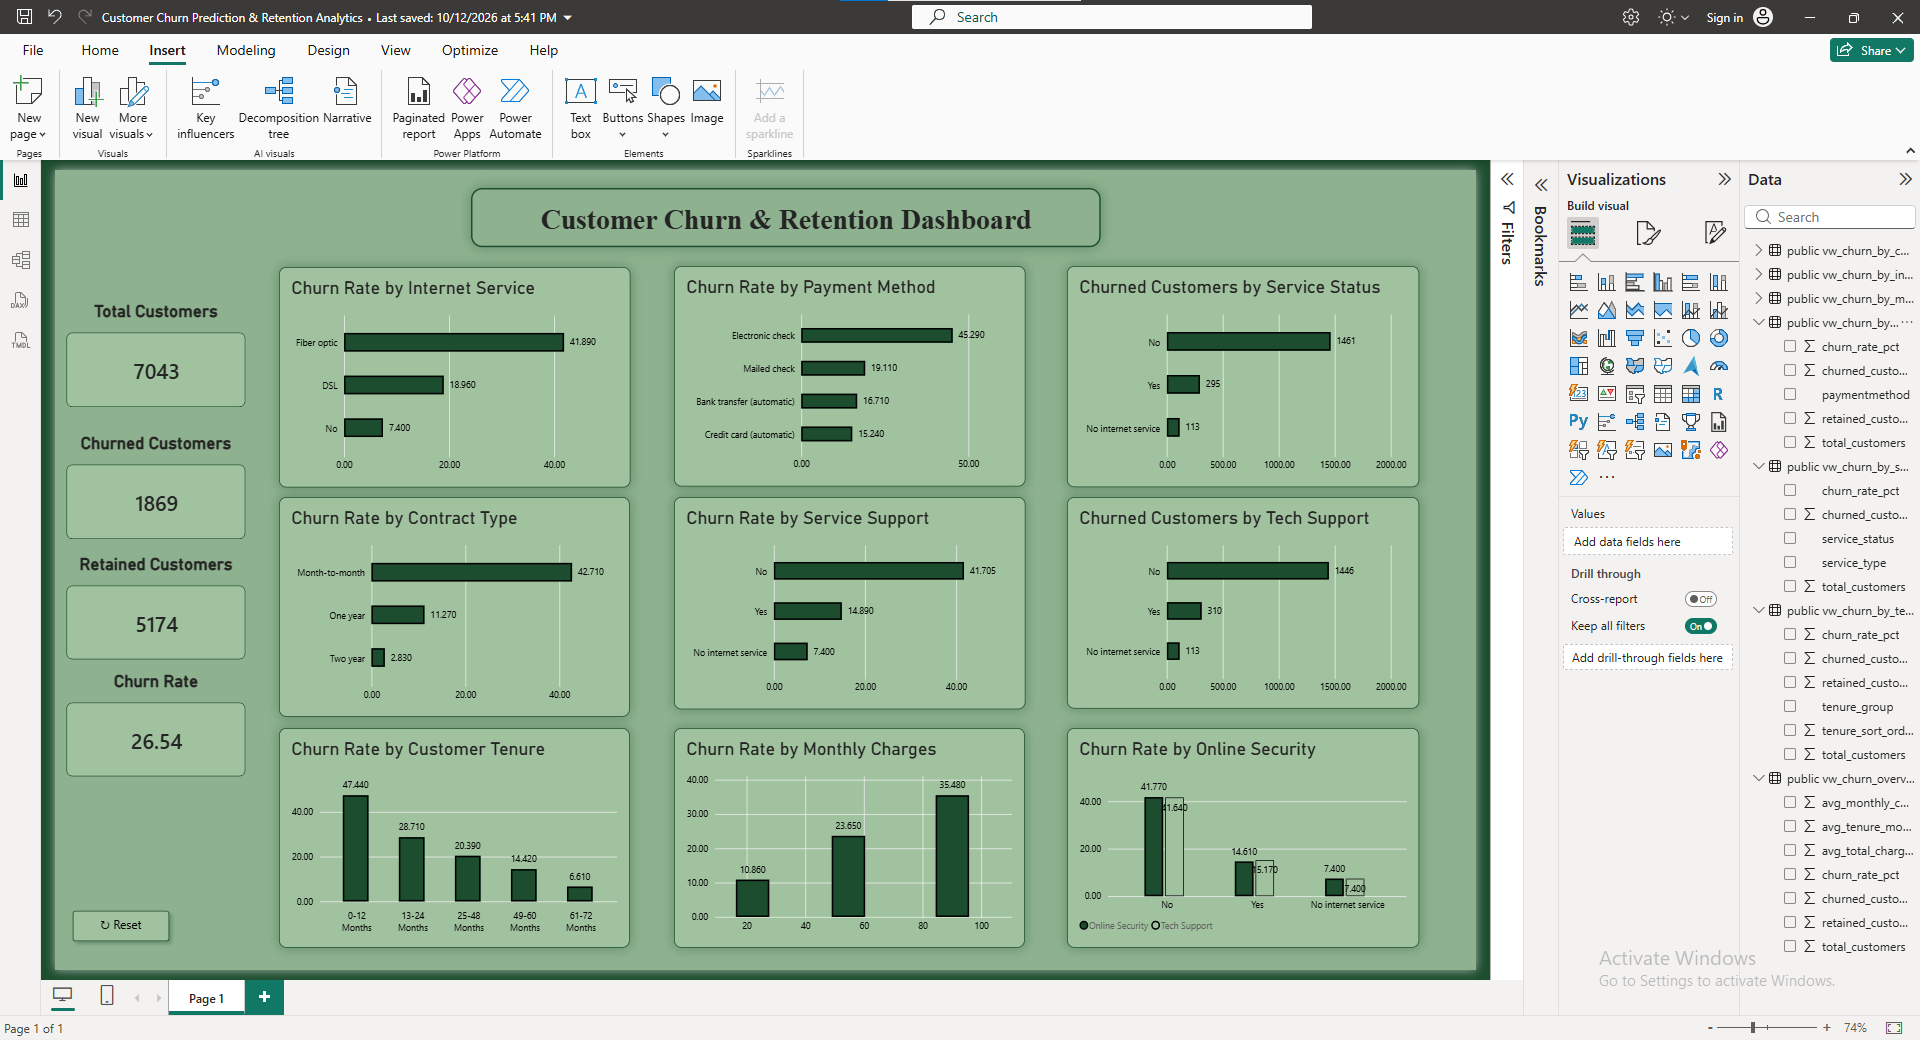

The dashboard page shown, as its layout file describes it:
{"tool":"powerbi","page":{"name":"Page 1","canvas":[1920,1080],"ordinal":0},"visuals":[{"type":"cardVisual","title":"Total Customers","fields":{"Data":["Sum(public vw_churn_overview.total_customers)"]},"box":[14.9,177,243.2,144.6],"z":0},{"type":"cardVisual","title":"Churned Customers","fields":{"Data":["Sum(public vw_churn_overview.churned_customers)"]},"box":[14.9,355.4,243.2,144.6],"z":1000},{"type":"cardVisual","title":"Retained Customers","fields":{"Data":["Sum(public vw_churn_overview.retained_customers)"]},"box":[14.9,518.9,243.2,143.2],"z":2000},{"type":"cardVisual","title":"Churn Rate","fields":{"Data":["Sum(public vw_churn_overview.churn_rate_pct)"]},"box":[14.9,677,243.2,143.2],"z":3000},{"type":"clusteredBarChart","title":"Churn Rate by Contract Type","fields":{"Category":["public vw_churn_by_contract.contract"],"Y":["Sum(public vw_churn_by_contract.churn_rate_pct)"]},"box":[302.7,441.9,474.3,297.3],"z":4000},{"type":"clusteredColumnChart","title":"Churn Rate by Customer Tenure","fields":{"Category":["public vw_churn_by_tenure.tenure_group"],"Y":["Sum(public vw_churn_by_tenure.churn_rate_pct)"]},"box":[302.7,754.1,474.3,297.3],"z":5000},{"type":"clusteredBarChart","title":"Churn Rate by Internet Service","fields":{"Category":["public vw_churn_by_internet_service.internetservice"],"Y":["Avg(public vw_churn_by_internet_service.churn_rate_pct)"]},"box":[302.7,131.1,474.8,297.7],"z":6000},{"type":"clusteredBarChart","title":"Churn Rate by Payment Method","fields":{"Category":["public vw_churn_by_payment_method.paymentmethod"],"Y":["Sum(public vw_churn_by_payment_method.churn_rate_pct)"]},"box":[836.5,129.7,475,298],"z":7000},{"type":"clusteredColumnChart","title":"Churn Rate by Monthly Charges","fields":{"Category":["public vw_churn_by_monthly_charges.avg_monthly_charges"],"Y":["Sum(public vw_churn_by_monthly_charges.churn_rate_pct)"]},"box":[836.5,754.1,474.3,297.3],"z":8000},{"type":"clusteredBarChart","title":"Churn Rate by Service Support","fields":{"Category":["public vw_churn_by_service_support.service_status"],"Y":["Avg(public vw_churn_by_service_support.churn_rate_pct)"]},"box":[836.5,441.9,475,287],"z":9000},{"type":"clusteredColumnChart","title":"Churn Rate by Online Security","fields":{"Category":["public vw_churn_by_service_support.service_status"],"Y":["Avg(public vw_churn_by_service_support.churn_rate_pct)"],"Series":["public vw_churn_by_service_support.service_type"]},"box":[1367.6,754.1,475.7,297.3],"z":10000},{"type":"clusteredBarChart","title":"Churned Customers by Tech Support","fields":{"Category":["public vw_churn_by_service_support.service_status"],"Y":["Sum(public vw_churn_by_service_support.churned_customers)"]},"box":[1367.6,441.9,475.7,286.5],"z":11000},{"type":"clusteredBarChart","title":"Churned Customers by Service Status","fields":{"Category":["public vw_churn_by_service_support.service_status"],"Y":["Sum(public vw_churn_by_service_support.churned_customers)"]},"box":[1367.6,129.7,475.7,298.6],"z":11001},{"type":"textbox","box":[562.2,24.3,851.4,79.7],"z":11002},{"type":"actionButton","box":[14.9,991.9,148.6,59.5],"z":11003}]}

Visuals, with their boxes on the page's 1920x1080 design canvas (x1, y1, x2, y2). These are canvas units, not pixel positions in the 1920x1040 screenshot, which may show the page scaled, cropped or inside an application window:
"Total Customers" cardVisual: 15 177 258 322
"Churned Customers" cardVisual: 15 355 258 500
"Retained Customers" cardVisual: 15 519 258 662
"Churn Rate" cardVisual: 15 677 258 820
"Churn Rate by Contract Type" clusteredBarChart: 303 442 777 739
"Churn Rate by Customer Tenure" clusteredColumnChart: 303 754 777 1051
"Churn Rate by Internet Service" clusteredBarChart: 303 131 778 429
"Churn Rate by Payment Method" clusteredBarChart: 836 130 1312 428
"Churn Rate by Monthly Charges" clusteredColumnChart: 836 754 1311 1051
"Churn Rate by Service Support" clusteredBarChart: 836 442 1312 729
"Churn Rate by Online Security" clusteredColumnChart: 1368 754 1843 1051
"Churned Customers by Tech Support" clusteredBarChart: 1368 442 1843 728
"Churned Customers by Service Status" clusteredBarChart: 1368 130 1843 428
textbox: 562 24 1414 104
actionButton: 15 992 164 1051
